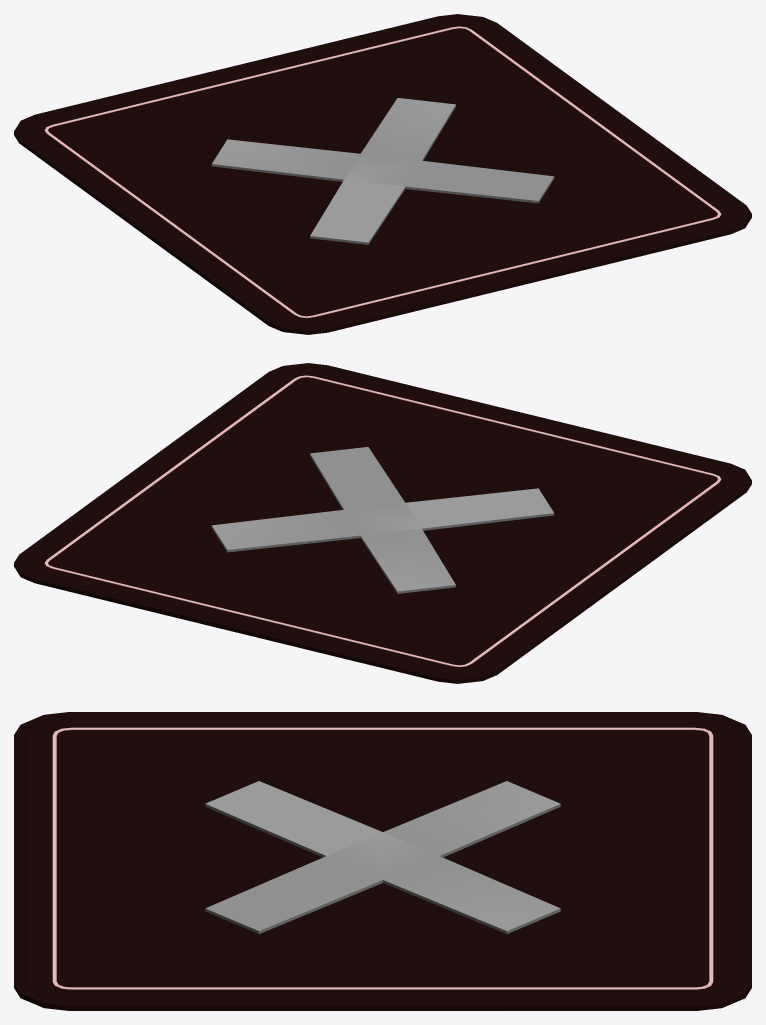
Rendered from W_M_Playground_X_L1.fbx.
3 views of the same model, one above another, from view 1: azimuth 30°, elevation 25°; view 2: azimuth 150°, elevation 25°; view 3: azimuth 270°, elevation 25° (orthographic). The views are drawn at different scales.
Parts seen in each view (by area): view 1: W_M_Playground_X_L1; view 2: W_M_Playground_X_L1; view 3: W_M_Playground_X_L1.
Part boxes in pixels (left/top/right/bottom): W_M_Playground_X_L1: left=14, top=14, right=751, bottom=334; W_M_Playground_X_L1: left=14, top=363, right=751, bottom=683; W_M_Playground_X_L1: left=14, top=712, right=751, bottom=1010.
Size of the model in its own units: 17.08 by 0.3685 by 18.12.
